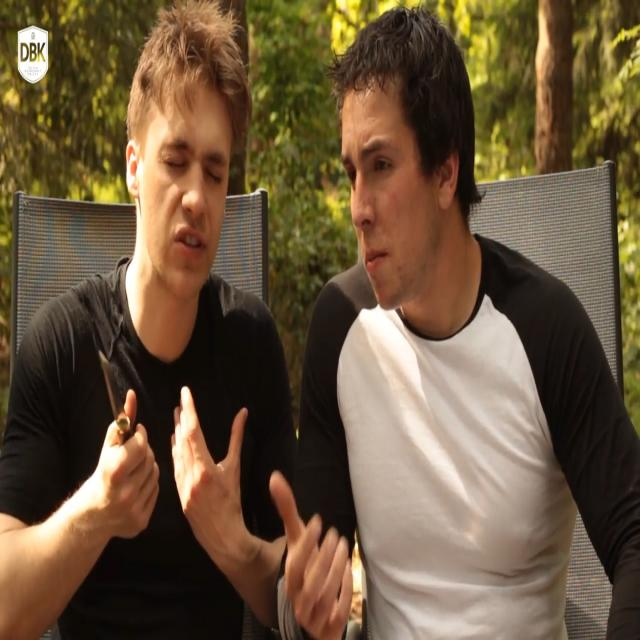knife: (98, 344, 135, 446)
